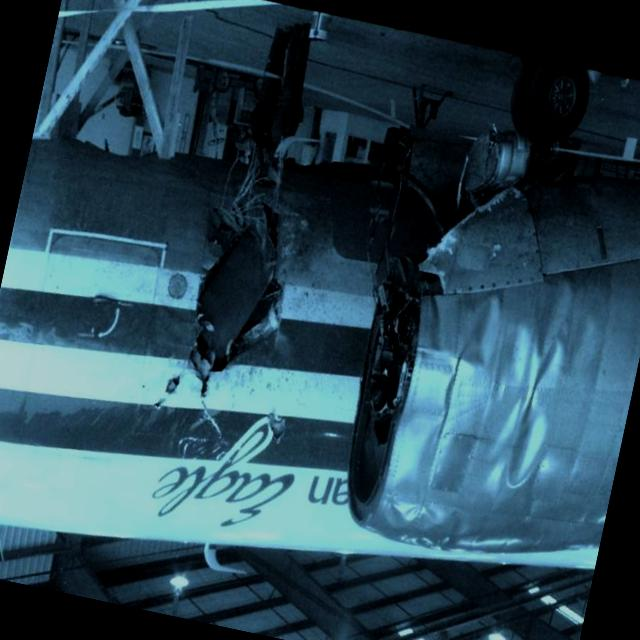dent: (503, 403, 552, 488), (460, 292, 508, 365), (532, 344, 561, 408), (498, 324, 530, 380)
